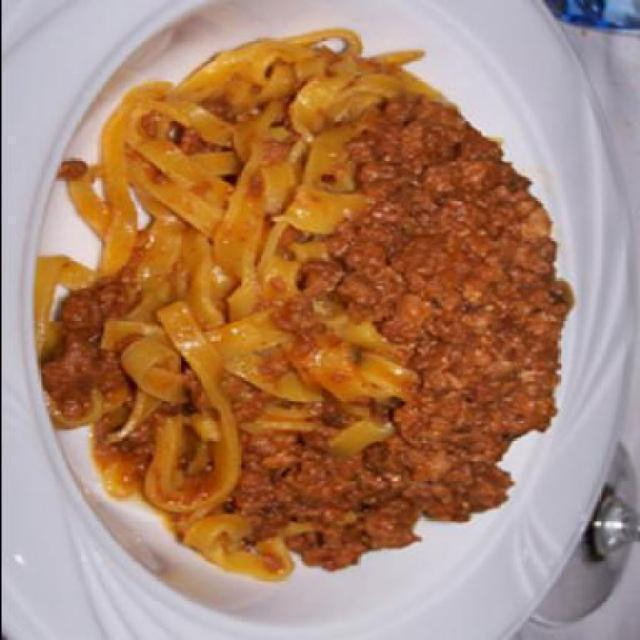Pasta: (32, 38, 578, 577)
